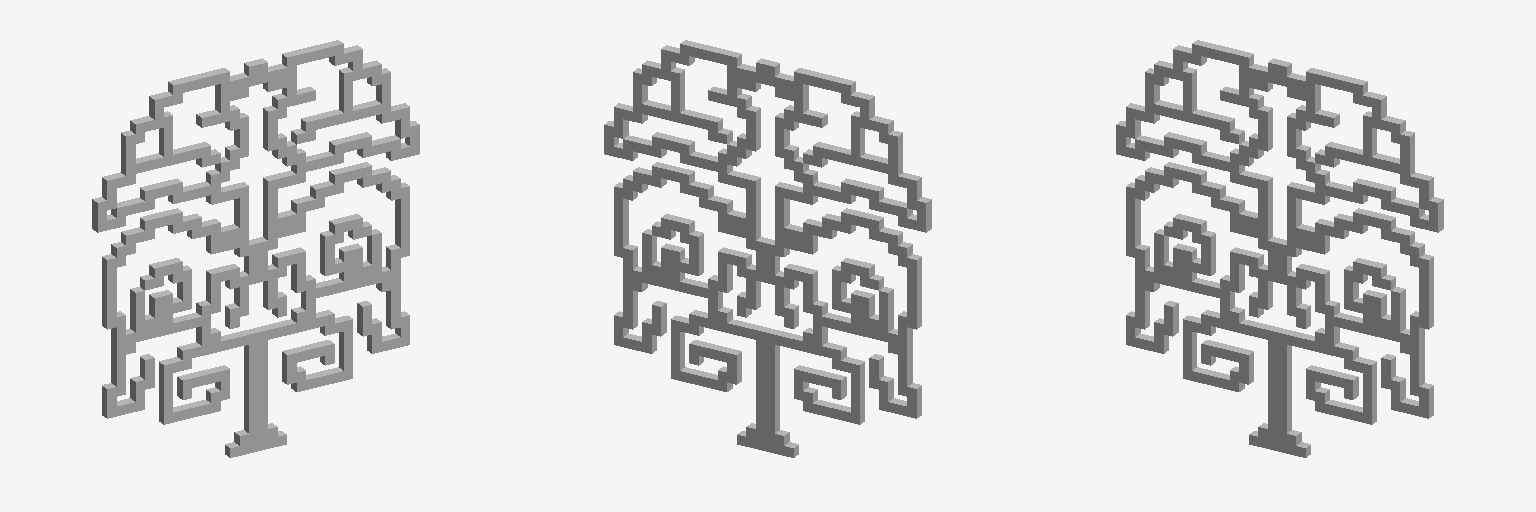
Rendered from tree2.obj.
The picture shows the model from 3 angles: view 1: azimuth 30°, elevation 25°; view 2: azimuth 150°, elevation 25°; view 3: azimuth 330°, elevation 25°; orthographic projection.
Visible parts, largest first — view 1: object 1; view 2: object 1; view 3: object 1.
Part boxes in pixels (x1,y1,x2,y2): object 1: (92, 40, 419, 457); object 1: (604, 40, 931, 457); object 1: (1116, 40, 1443, 457).
Bounding box in the file's own units: 3.4 × 3.9 × 0.1.